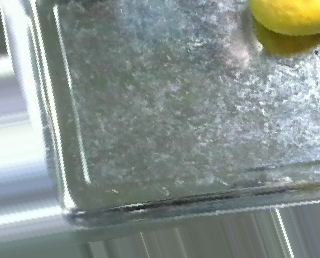Mango: (248, 1, 320, 34)
